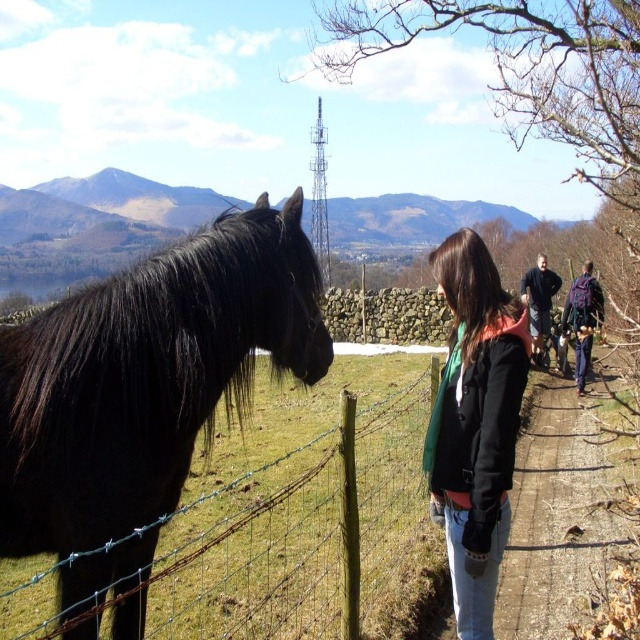Horse: (0, 187, 333, 639)
